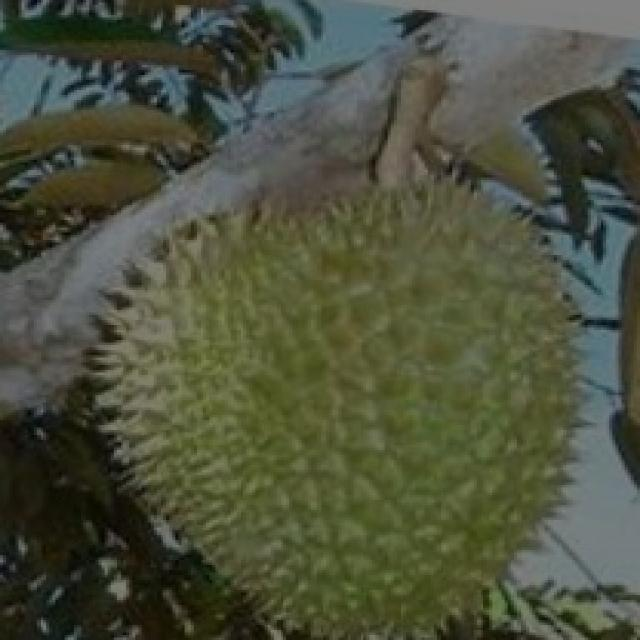fruit: (37, 215, 378, 630)
